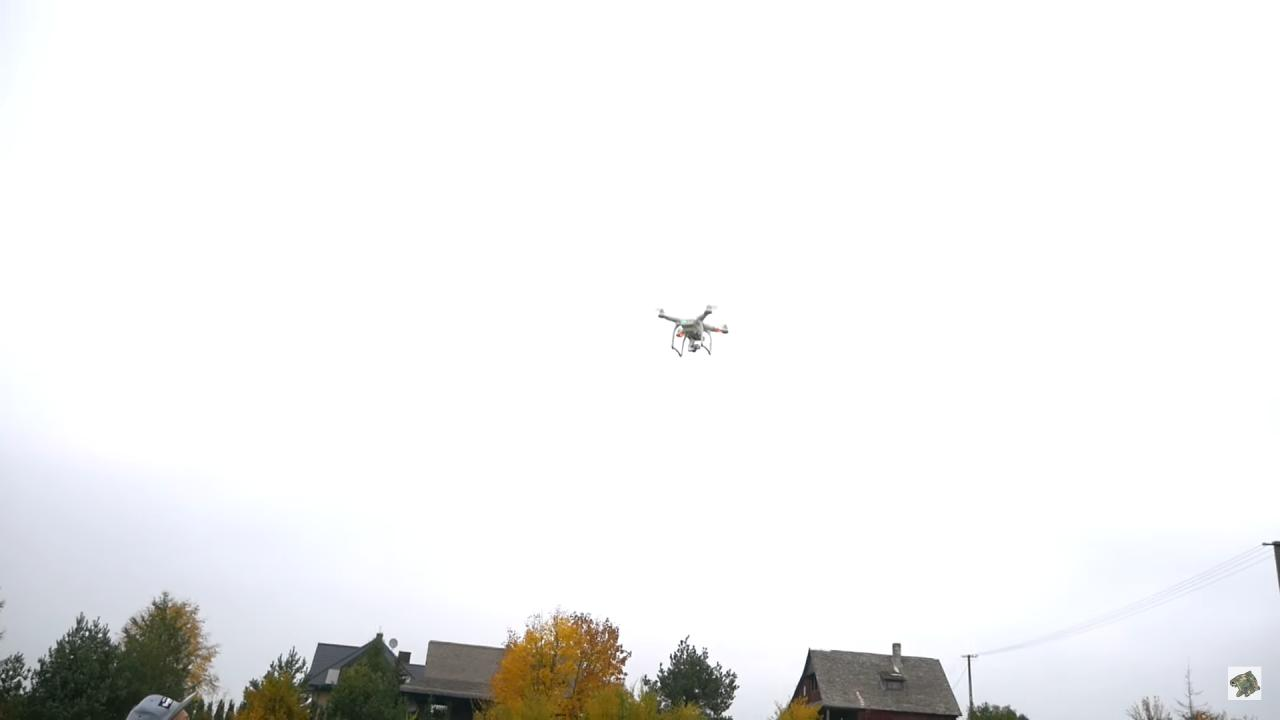Drone: (647, 295, 738, 366)
